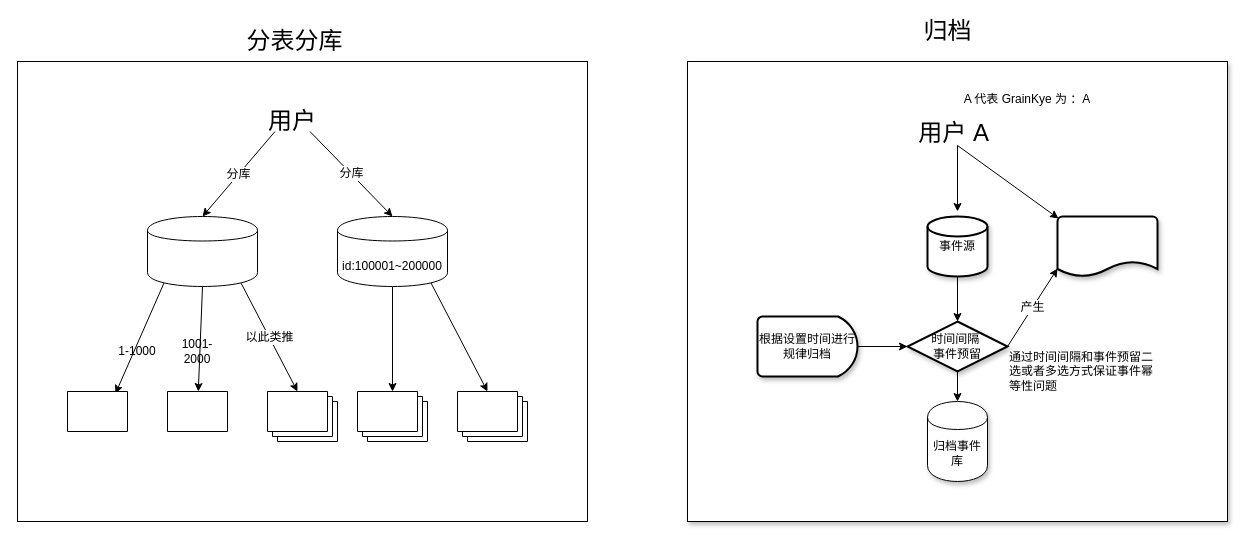
The diagram is 1251 pixels wide and 546 high, and some of its shapes have lost their labels. Here are the shapes that lost their labels. From the top down, the centre of each, then its label:
At [202,251]: "id:1-100000".
At [1108,247]: "归档快照".
